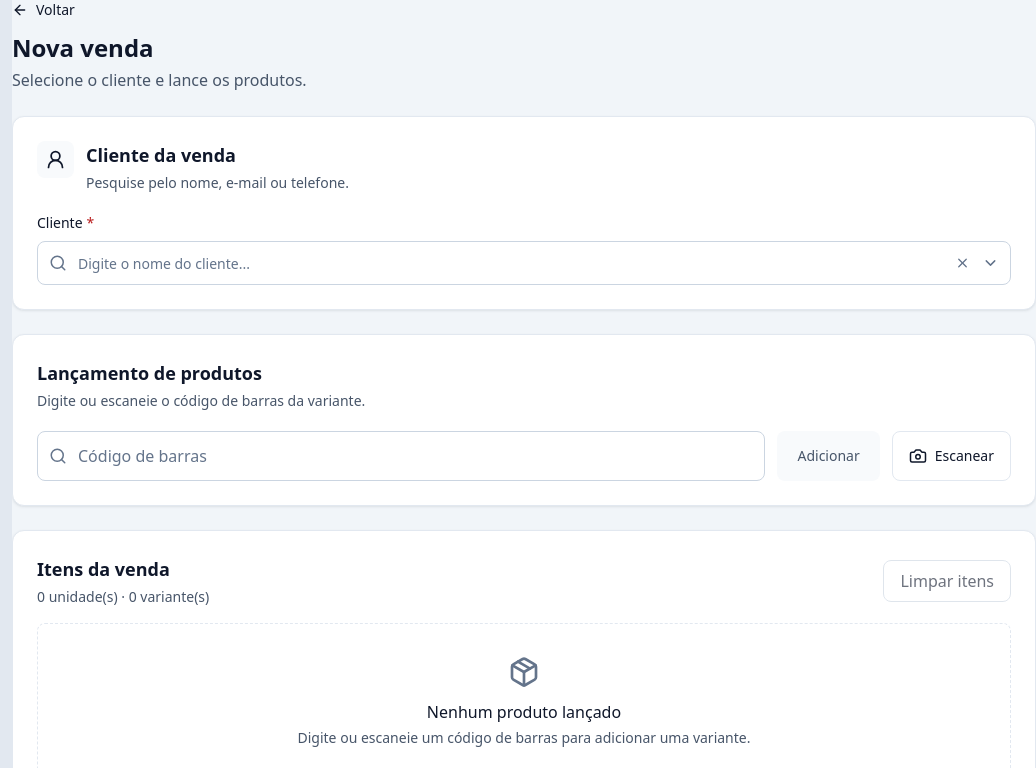
Scenario: SaleCreatePage › o total é marcado como estimativa (o servidor recalcula ao registrar)
Type "Mar" into the dropdown with placeholder "Digite o nome do cliente...". click: (524, 263)
box: [37,241,1011,285]
(page scrolled)
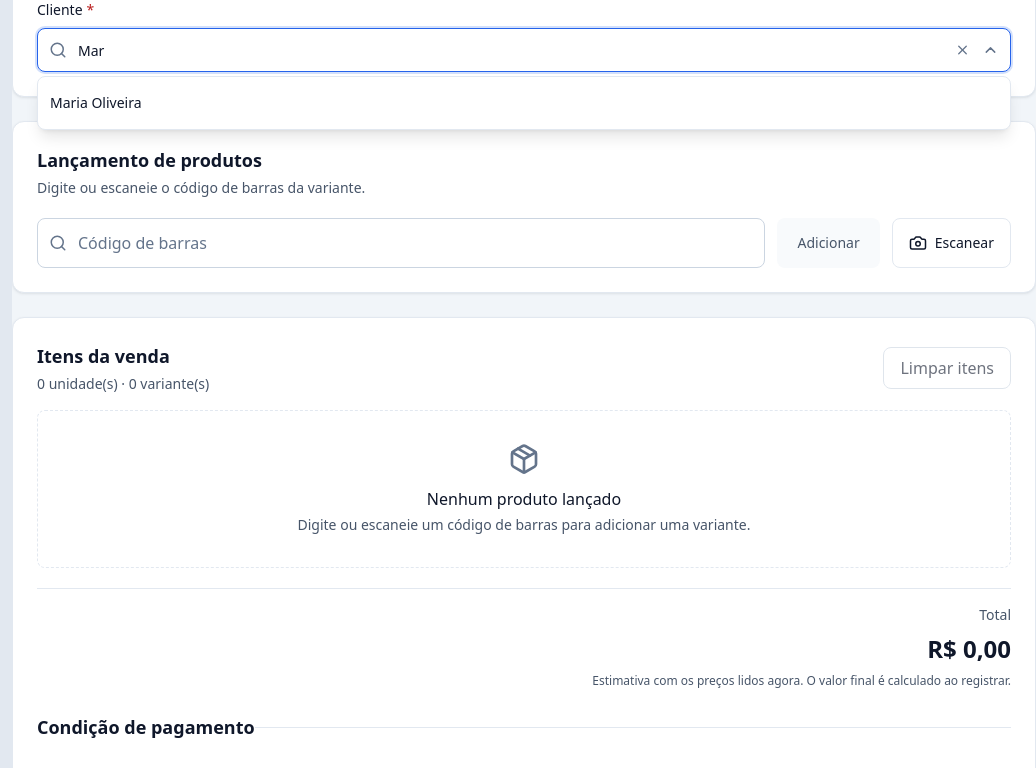
Click the button "Maria Oliveira". click: click(96, 102)
box: [38,81,1010,125]
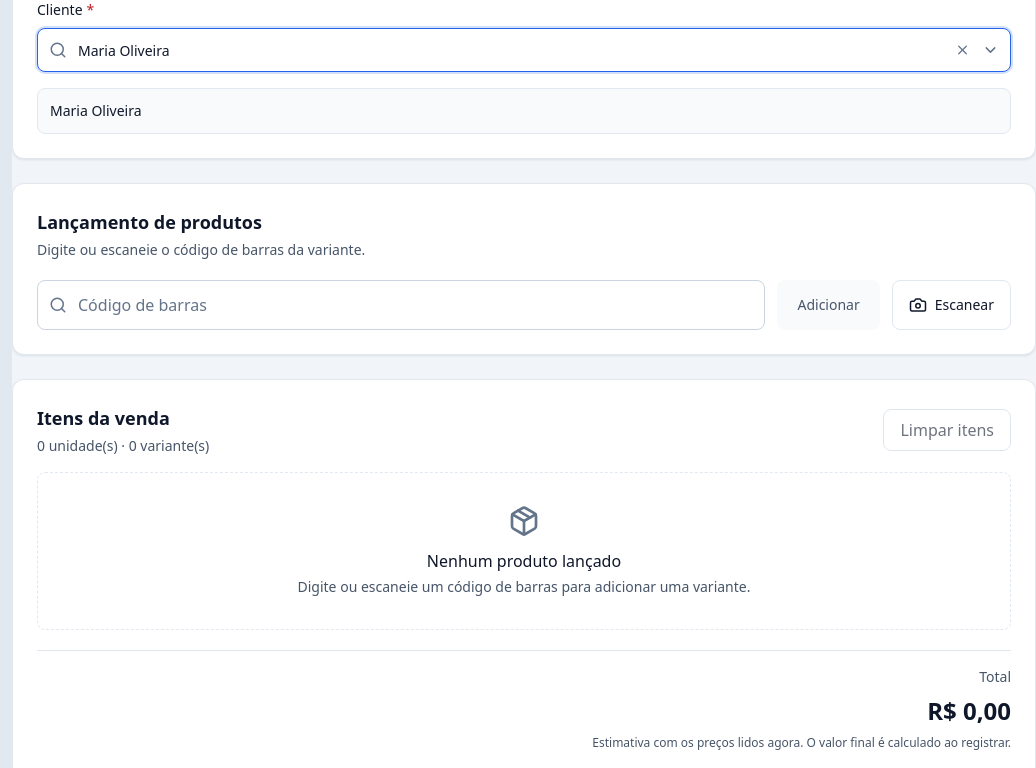
Type "111" into the field named "Código de barras do produto". click: (401, 305)
box: [37,280,766,330]
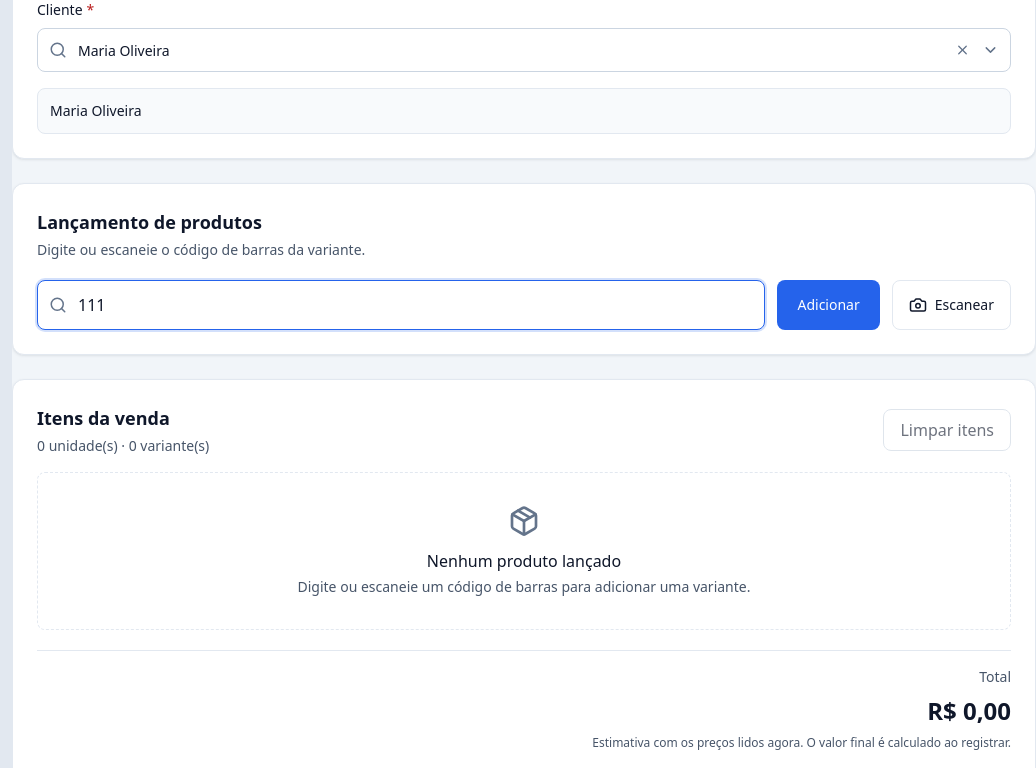
Click the button "Adicionar". click: click(829, 305)
box: [778,280,880,330]
(page scrolled)
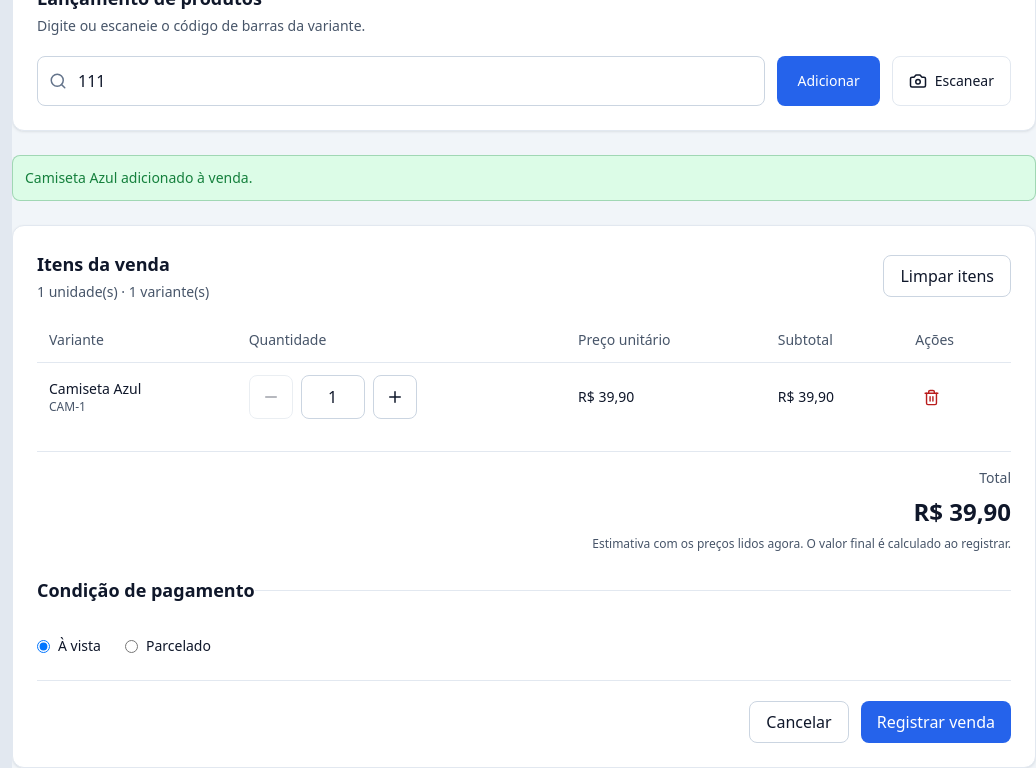
Expected: the text with test id "sale-total-estimate" shows "Estimativa", [592,535,1011,552]
Result: the field named "Quantidade de Camiseta Azul" is shown at [301,375,365,419]
